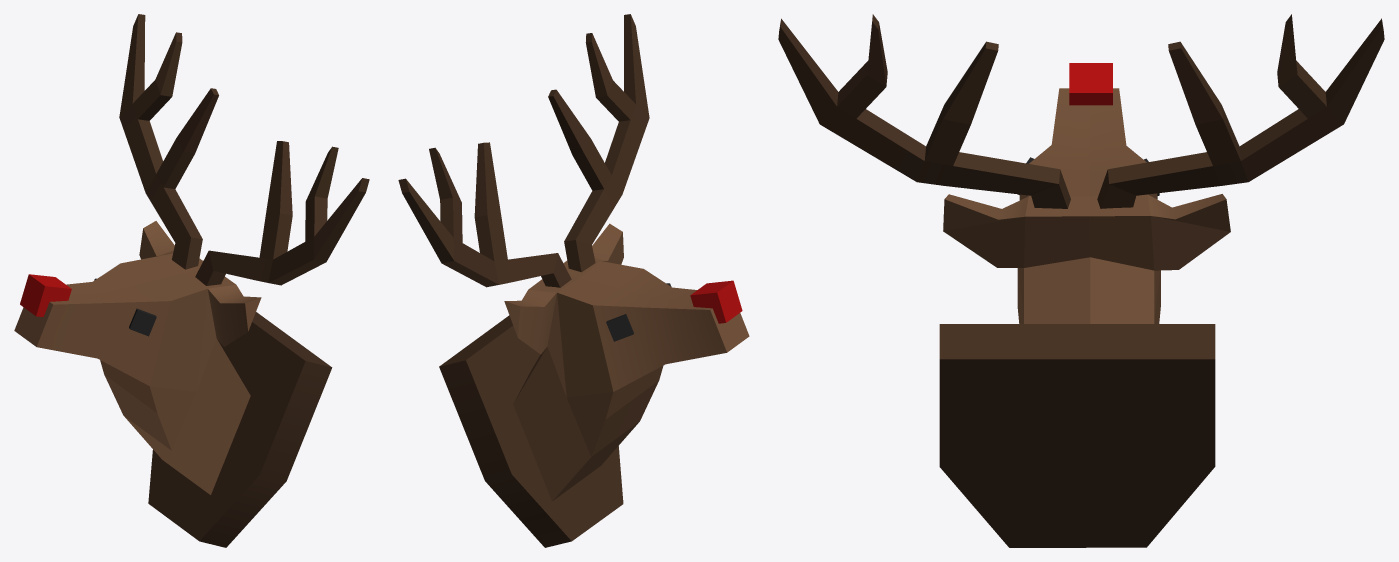
File: deer (4).fbx
3 renders of one model, left to right at view 1: azimuth 30°, elevation 25°; view 2: azimuth 150°, elevation 25°; view 3: azimuth 270°, elevation 25°, orthographic. The views are drawn at different scales.
Parts seen in each view (by area): view 1: pCube132; view 2: pCube132; view 3: pCube132.
Boxes of the visible parts, x1,y1,x2,y2 form: pCube132: (14, 14, 369, 547); pCube132: (398, 14, 749, 547); pCube132: (778, 14, 1384, 547).
Size of the model in its own units: 0.978 by 1.58 by 1.52.
